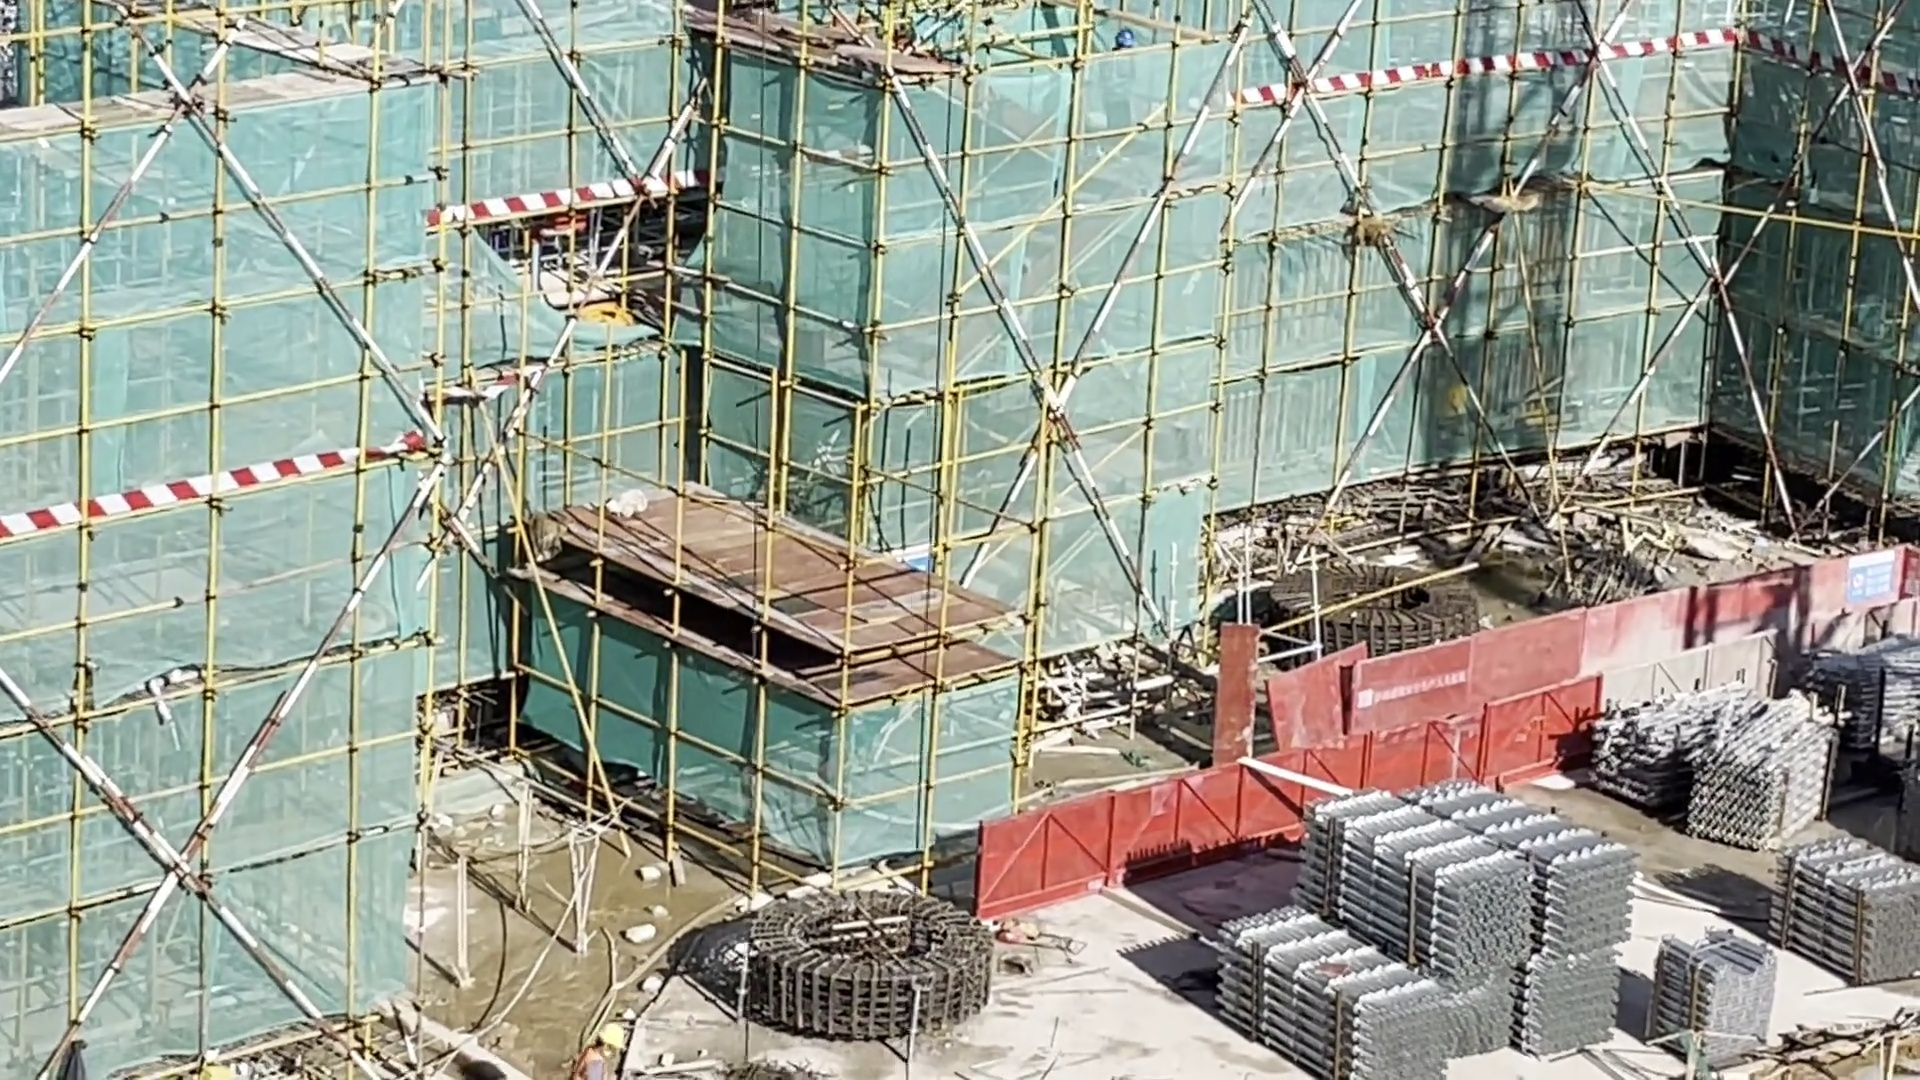fence: (972, 599, 1920, 916)
scaffold: (1232, 771, 1635, 1065), (1604, 678, 1832, 851), (1784, 836, 1920, 980), (1658, 926, 1797, 1062)
